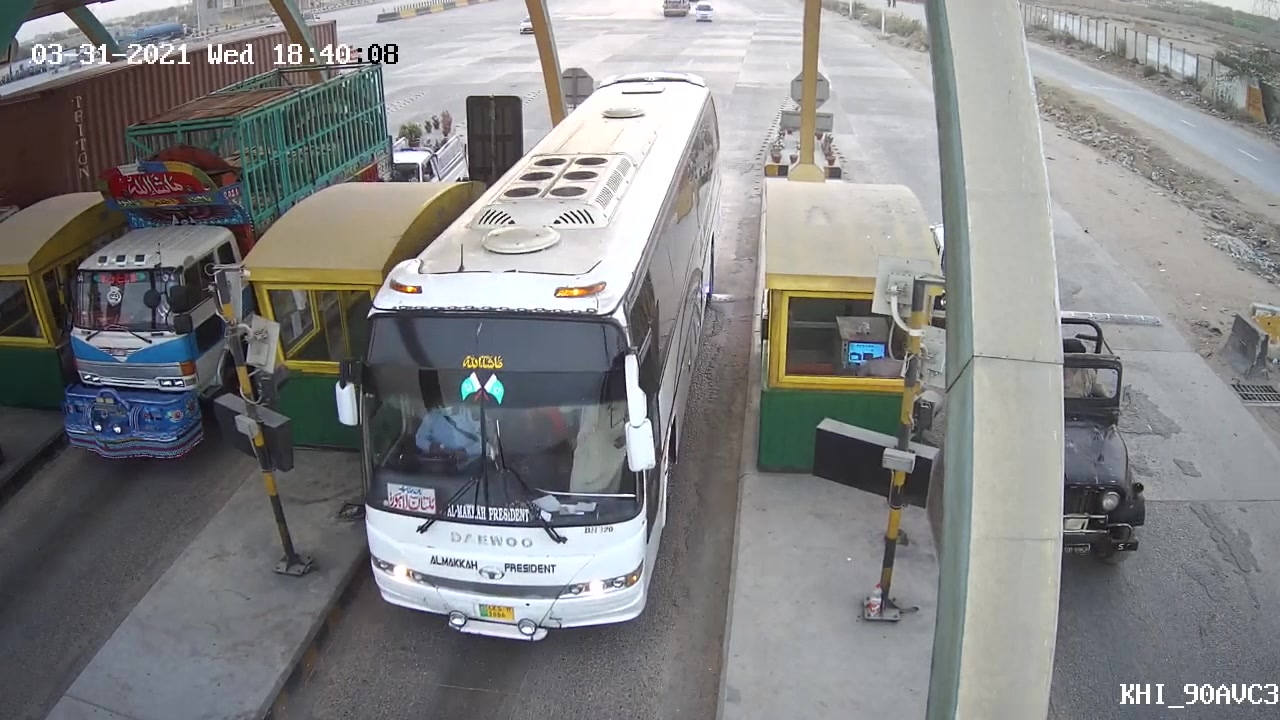F4: (333, 142, 732, 643)
